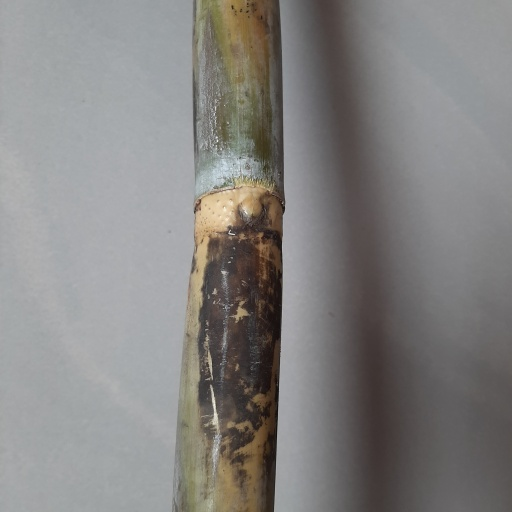Bud: (238, 197, 267, 232)
